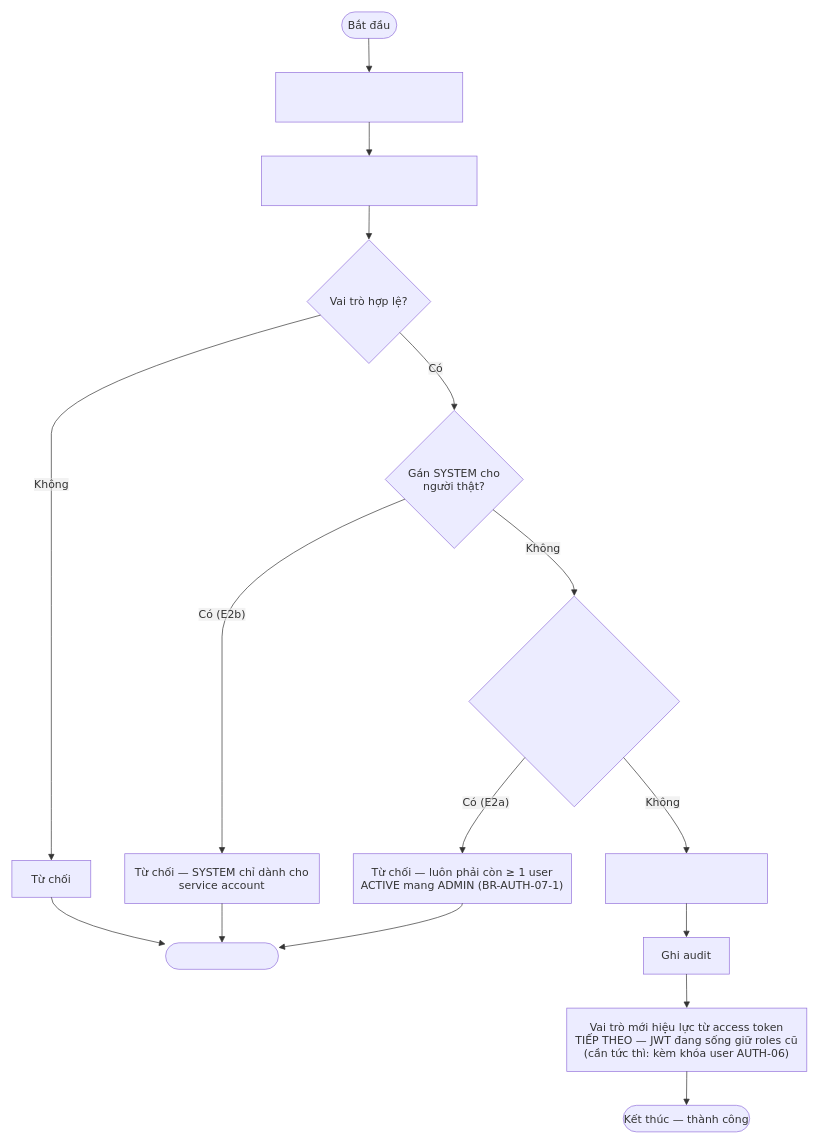
This 819x1144 diagram has some shape labels left out. Each missing label, with the centre of its shape:
Admin chọn user, chọn vai trò cần gán hoặc thu hồi: the point at 369,97
Hệ thống thêm hoặc xóa dòng user_roles: the point at 686,878
Hệ thống validate vai trò thuộc tập cho phép (ck_user_roles_role): the point at 369,180
Kết thúc — thất bại: the point at 221,955
Thu hồi ADMIN của admin cuối cùng còn ACTIVE?: the point at 574,701
